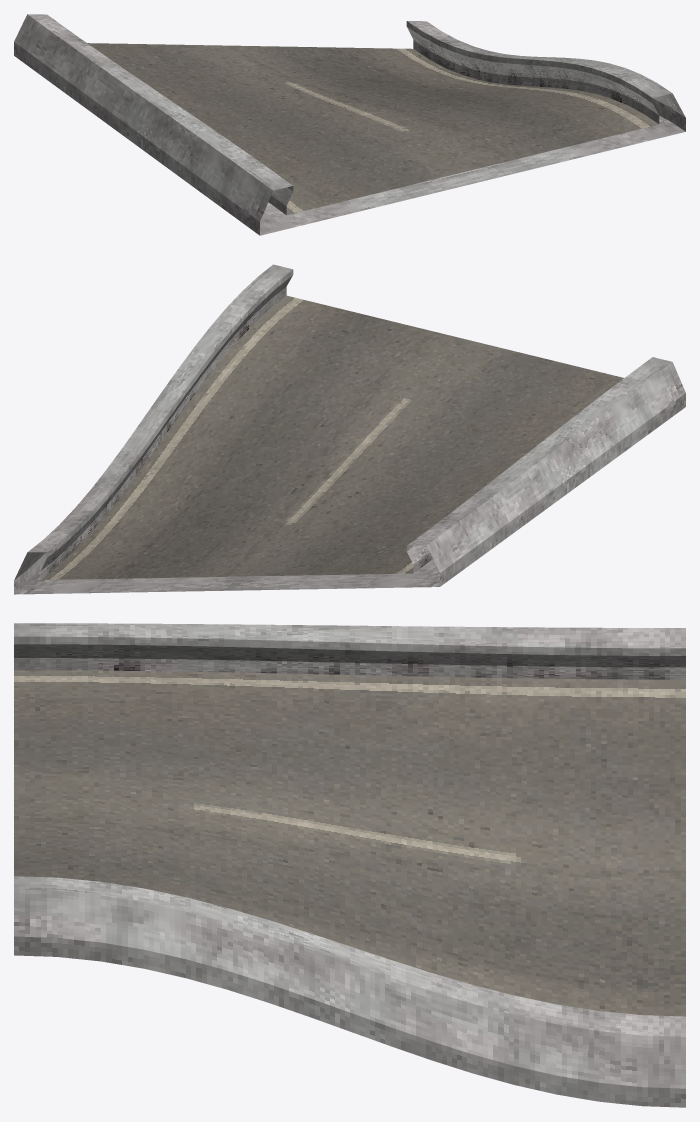
The model's file is road-Straight-Flat-HalfBankedRight-Down1-Center-Size1.glb.
3 renders of one model, top to bottom at view 1: azimuth 30°, elevation 25°; view 2: azimuth 150°, elevation 25°; view 3: azimuth 270°, elevation 25°, orthographic. The views are drawn at different scales.
Parts seen in each view (by area): view 1: road-Straight-Flat-HalfBankedRight-Down1-Center-Size1; view 2: road-Straight-Flat-HalfBankedRight-Down1-Center-Size1; view 3: road-Straight-Flat-HalfBankedRight-Down1-Center-Size1.
Part boxes in pixels (bbox=[...]): road-Straight-Flat-HalfBankedRight-Down1-Center-Size1: bbox=[14, 14, 685, 235]; road-Straight-Flat-HalfBankedRight-Down1-Center-Size1: bbox=[14, 264, 685, 594]; road-Straight-Flat-HalfBankedRight-Down1-Center-Size1: bbox=[14, 623, 685, 1107].
Size of the model in its own units: 1 by 0.3438 by 1.
Materials: 2 (2 with a texture image).
